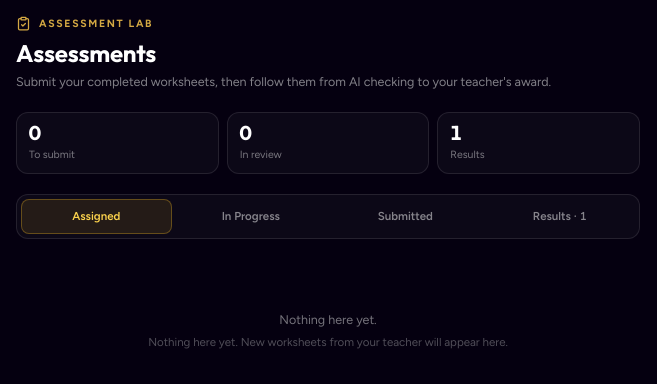
it: renders an awarded submission's real score, not a fabricated one, under the Results tab
Expected: the element with test id "assessments-tab-empty" is shown, [148, 312, 508, 349]
Step 1. Click the tab with test id "assessments-tab-results" → (560, 216), box [484, 199, 635, 234]
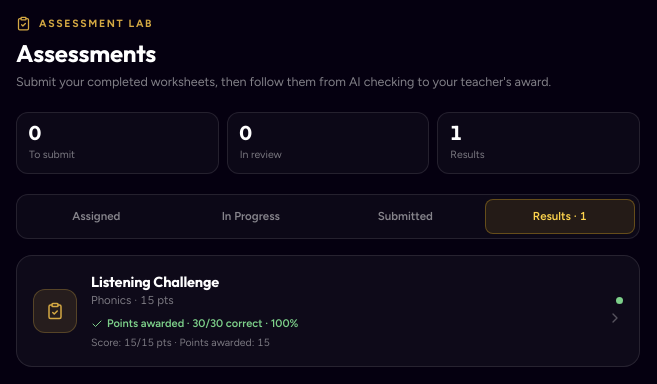
Expected: the element with test id "assessment-status-pill" shows "Points awarded", [107, 317, 184, 330]
Expected: the element with test id "assessment-status-pill" shows "100%", [184, 317, 298, 330]
Expected: the text with test id "assessment-status-pill-points" shows "Score: 15/15 pts", [91, 334, 298, 350]
